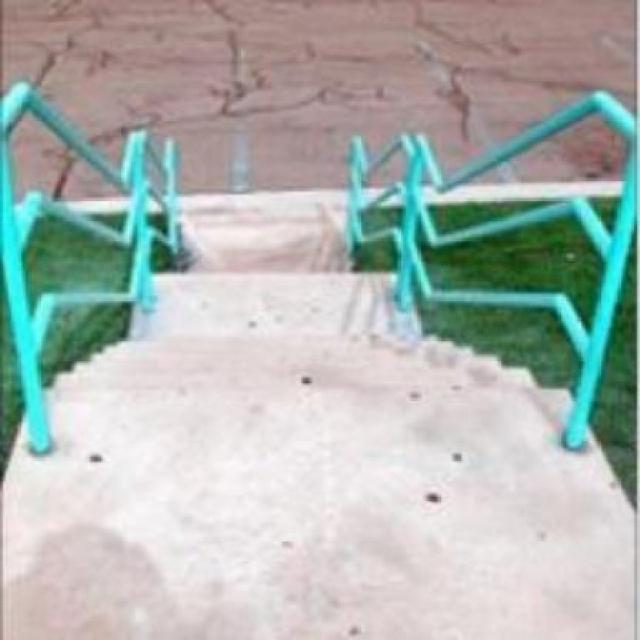stair: (41, 323, 562, 422)
